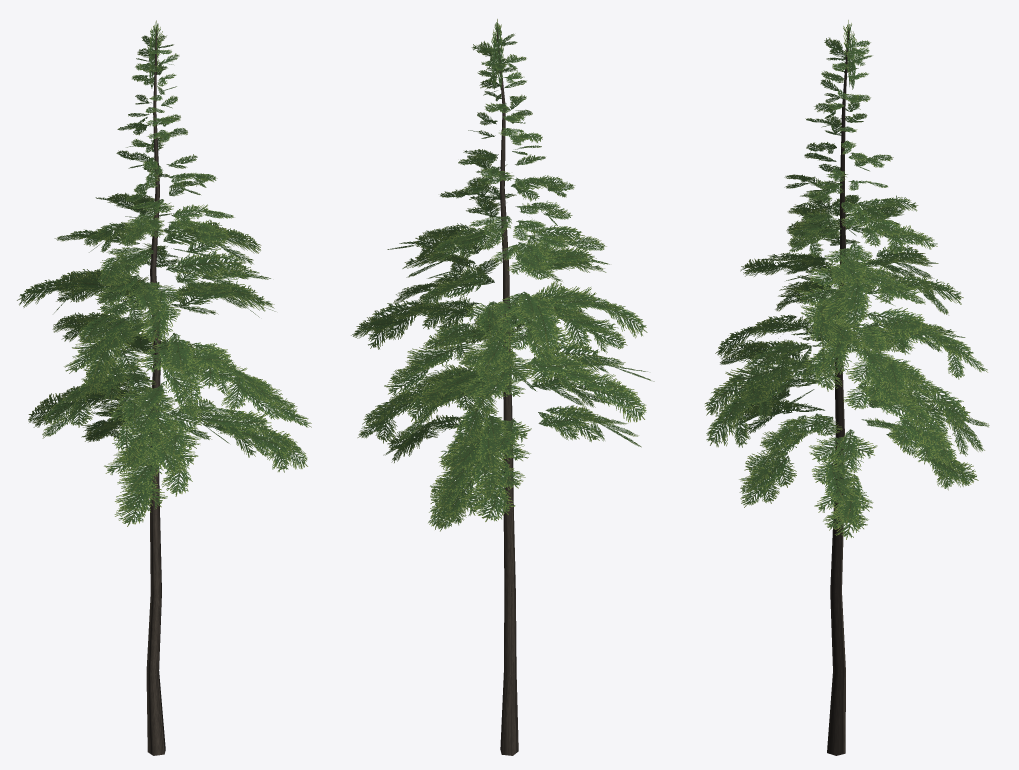
Rendered from mid.glb.
3 views of the same model, side by side, from view 1: azimuth 30°, elevation 25°; view 2: azimuth 150°, elevation 25°; view 3: azimuth 270°, elevation 25° (orthographic).
Visible parts, largest first — view 1: spruce_02; view 2: spruce_02; view 3: spruce_02.
Part boxes in pixels (x1,y1,x2,y2): spruce_02: (17, 20, 311, 755); spruce_02: (351, 19, 654, 755); spruce_02: (705, 20, 989, 755).
Bounding box in the file's own units: 7.33 × 19.65 × 7.56.
Materials: 2 (2 with a texture image).
